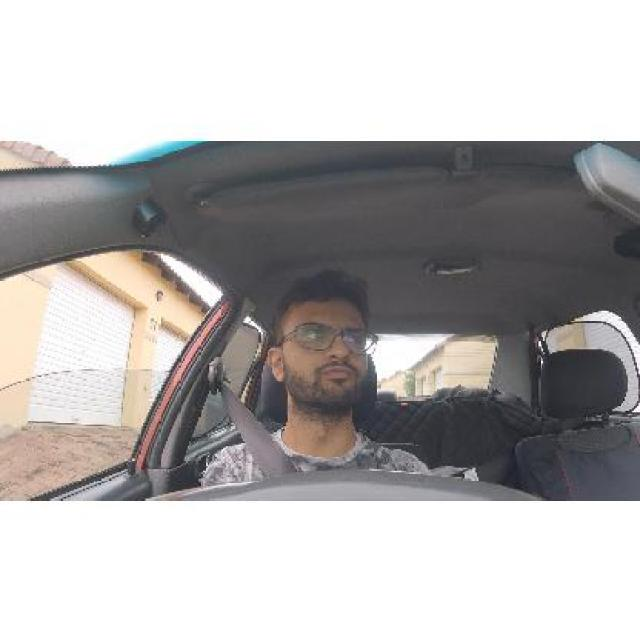person: (269, 297, 380, 413)
